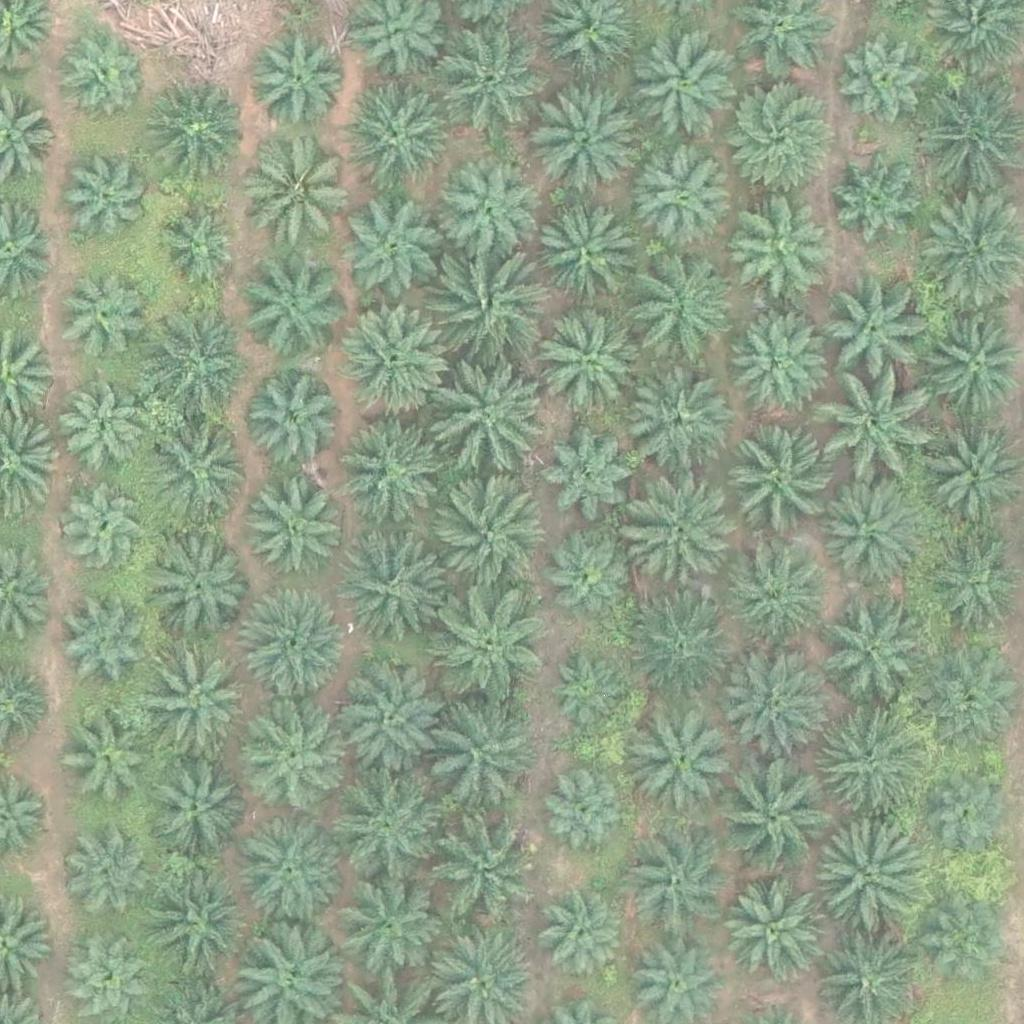Kelapa_Sawit: (620, 370, 733, 484), (338, 527, 451, 641), (813, 476, 926, 589), (817, 593, 930, 706), (810, 709, 923, 822), (723, 423, 836, 536), (428, 253, 541, 366), (437, 482, 550, 595), (331, 663, 444, 776), (338, 417, 451, 530), (235, 254, 348, 367), (237, 589, 350, 702), (143, 651, 256, 764), (141, 409, 254, 522), (142, 309, 255, 422), (718, 74, 831, 187), (625, 31, 738, 144), (336, 75, 449, 188), (727, 875, 839, 989), (432, 587, 544, 701), (141, 865, 253, 979), (815, 372, 927, 485), (817, 822, 929, 935), (718, 754, 830, 867), (714, 645, 826, 758), (627, 252, 739, 365), (628, 484, 740, 597), (627, 586, 739, 699), (628, 705, 740, 818), (617, 826, 729, 939), (533, 305, 645, 418), (434, 365, 546, 478), (423, 697, 535, 810), (428, 807, 540, 920), (330, 862, 442, 975), (329, 771, 441, 884), (337, 301, 449, 414), (236, 818, 348, 931), (531, 80, 643, 193), (435, 25, 547, 138), (245, 138, 357, 251), (917, 654, 1017, 755), (729, 550, 829, 651), (735, 313, 835, 414), (540, 427, 640, 528), (240, 372, 340, 473), (248, 476, 348, 577), (244, 713, 344, 814), (140, 757, 240, 858), (151, 540, 251, 641), (825, 145, 925, 246), (724, 195, 824, 296), (633, 144, 733, 245), (530, 206, 630, 307), (439, 161, 539, 262), (339, 196, 439, 297), (251, 30, 351, 131), (818, 284, 918, 384), (838, 26, 938, 126), (145, 84, 245, 184), (54, 276, 142, 364), (58, 388, 146, 476), (63, 714, 151, 802), (68, 834, 156, 922), (154, 197, 242, 285), (925, 770, 1012, 858), (921, 886, 1008, 974), (541, 888, 628, 976), (541, 764, 628, 852), (552, 531, 639, 619), (60, 485, 147, 573), (61, 604, 148, 692), (61, 151, 148, 239), (58, 28, 145, 116), (550, 654, 625, 730)
